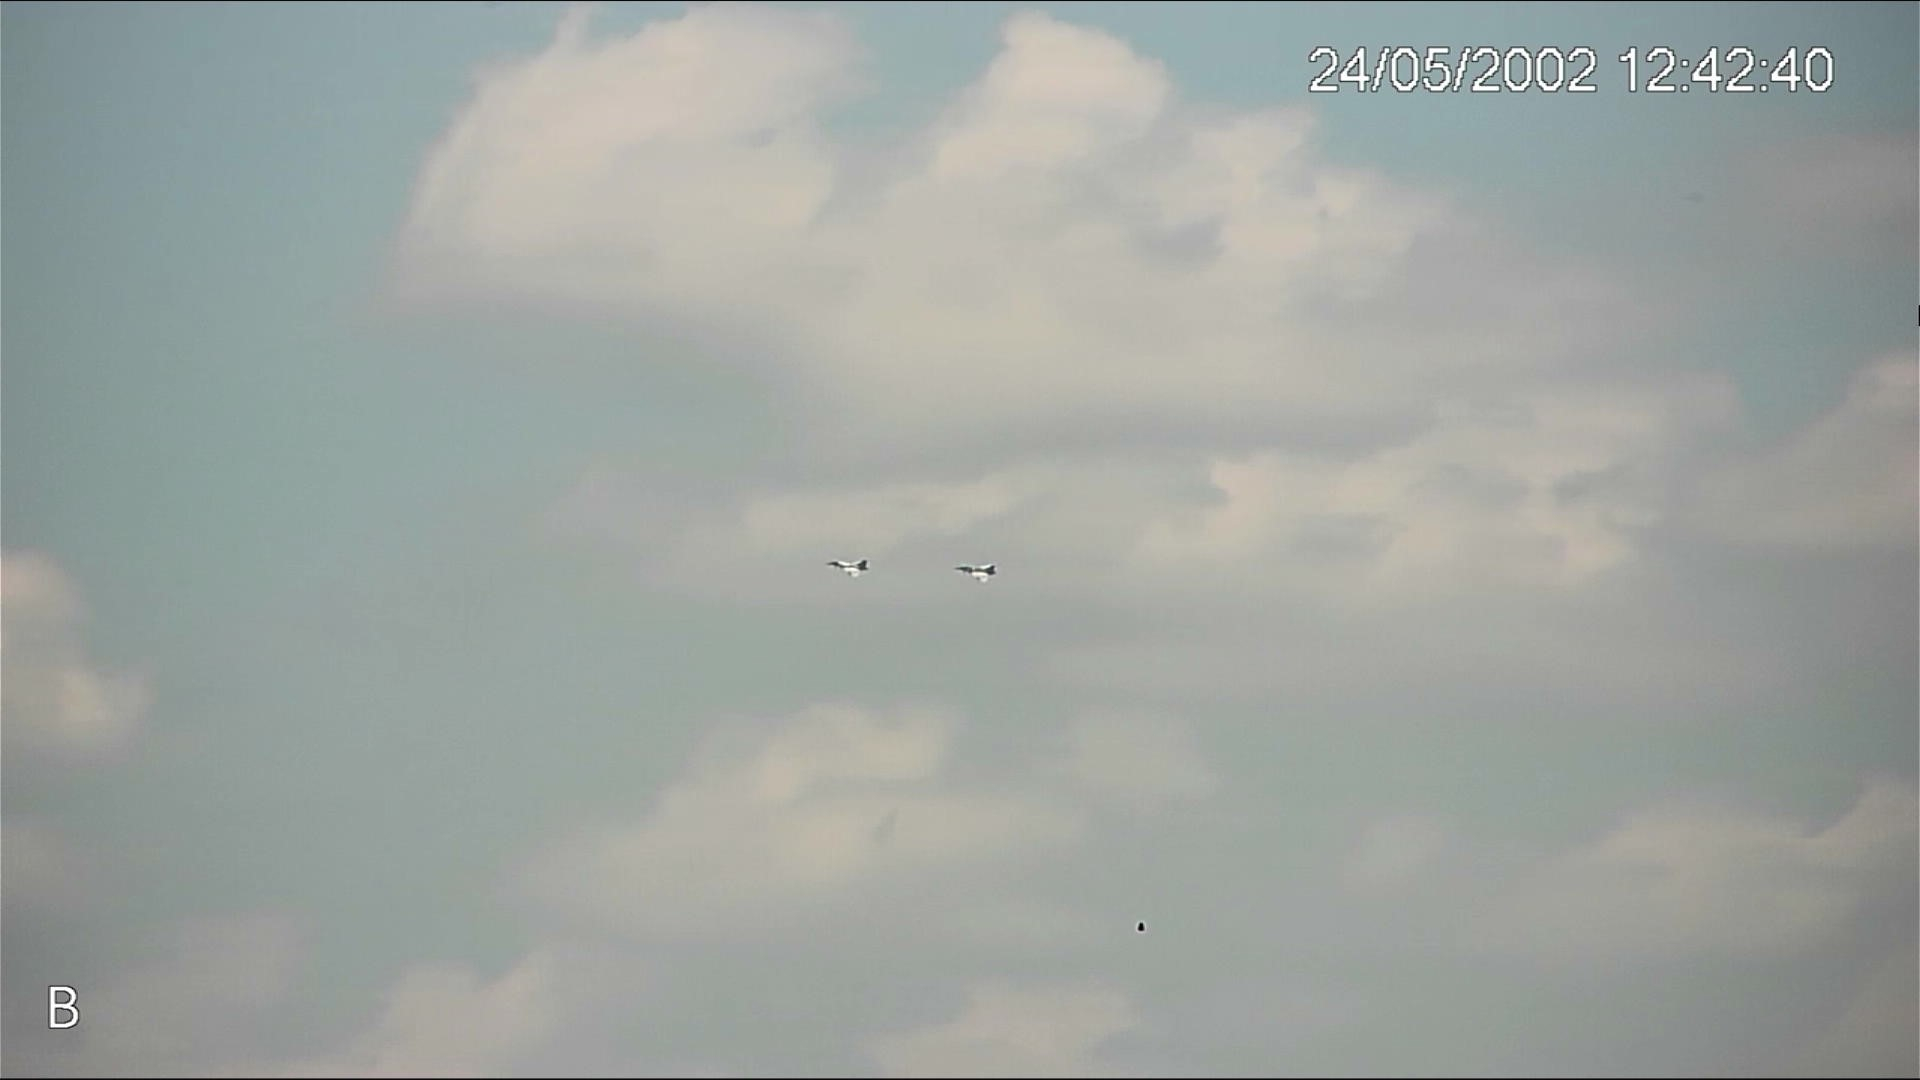SU_30: (825, 556, 872, 578), (953, 562, 1000, 583)
